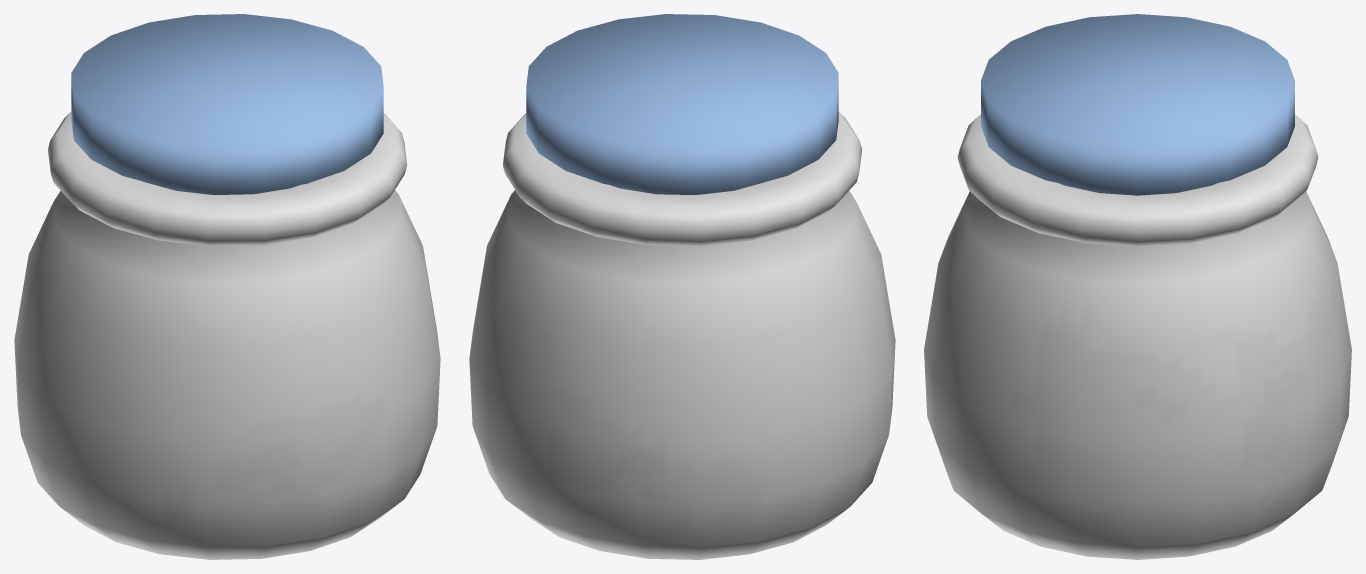
Rendered from pi_glasspot04_yogurt.gltf.
The picture shows the model from 3 angles, left to right: view 1: azimuth 30°, elevation 25°; view 2: azimuth 150°, elevation 25°; view 3: azimuth 270°, elevation 25°; orthographic projection.
Parts seen in each view (by area): view 1: glasspot04_outside01_mesh_shape__duprename_e5eea36x:pi_glass, glasspot04_lid01_mesh_shape:pi_glasspot04_body; view 2: glasspot04_outside01_mesh_shape__duprename_e5eea36x:pi_glass, glasspot04_lid01_mesh_shape:pi_glasspot04_body; view 3: glasspot04_outside01_mesh_shape__duprename_e5eea36x:pi_glass, glasspot04_lid01_mesh_shape:pi_glasspot04_body.
Boxes of the visible parts, x1,y1,x2,y2 form: glasspot04_outside01_mesh_shape__duprename_e5eea36x:pi_glass: (14, 112, 440, 559); glasspot04_lid01_mesh_shape:pi_glasspot04_body: (71, 14, 383, 195); glasspot04_outside01_mesh_shape__duprename_e5eea36x:pi_glass: (469, 112, 895, 559); glasspot04_lid01_mesh_shape:pi_glasspot04_body: (526, 14, 838, 195); glasspot04_outside01_mesh_shape__duprename_e5eea36x:pi_glass: (924, 114, 1351, 559); glasspot04_lid01_mesh_shape:pi_glasspot04_body: (981, 14, 1294, 195).
Bounding box in the file's own units: 0.0943 × 0.0997 × 0.0943.
Materials: 3 (3 with a texture image).
